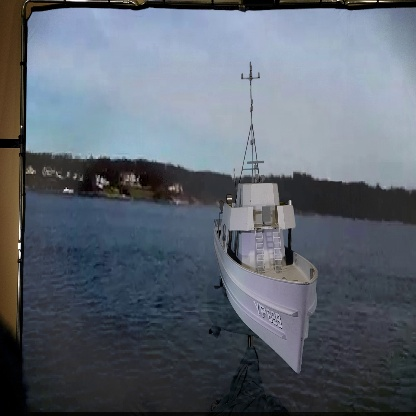YP689: (212, 60, 318, 372)
